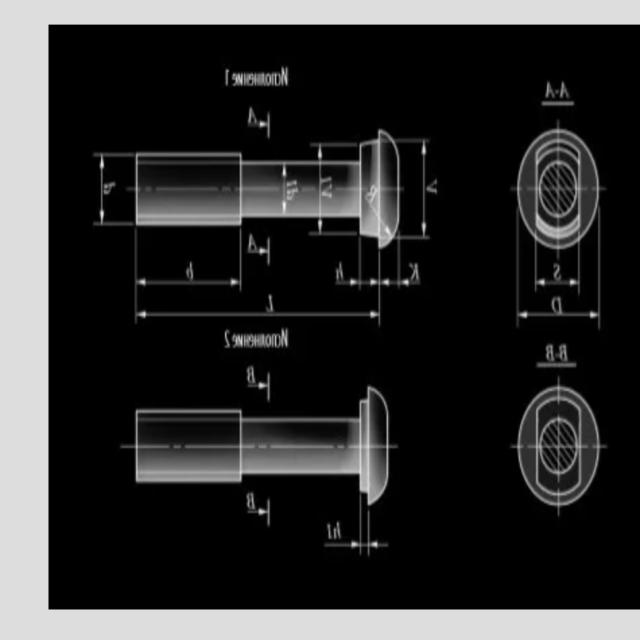marking_line: (133, 250, 384, 329), (506, 251, 604, 331), (133, 229, 245, 292), (331, 250, 424, 295), (93, 150, 133, 230), (401, 138, 432, 241), (323, 494, 364, 558), (533, 251, 580, 296), (330, 238, 365, 290), (365, 509, 395, 562), (396, 236, 425, 290), (244, 364, 275, 406), (536, 360, 577, 385), (247, 102, 273, 141), (245, 492, 273, 527), (308, 139, 359, 158), (308, 220, 359, 239), (516, 214, 521, 327), (257, 237, 273, 269), (598, 207, 602, 331), (281, 166, 288, 212)
